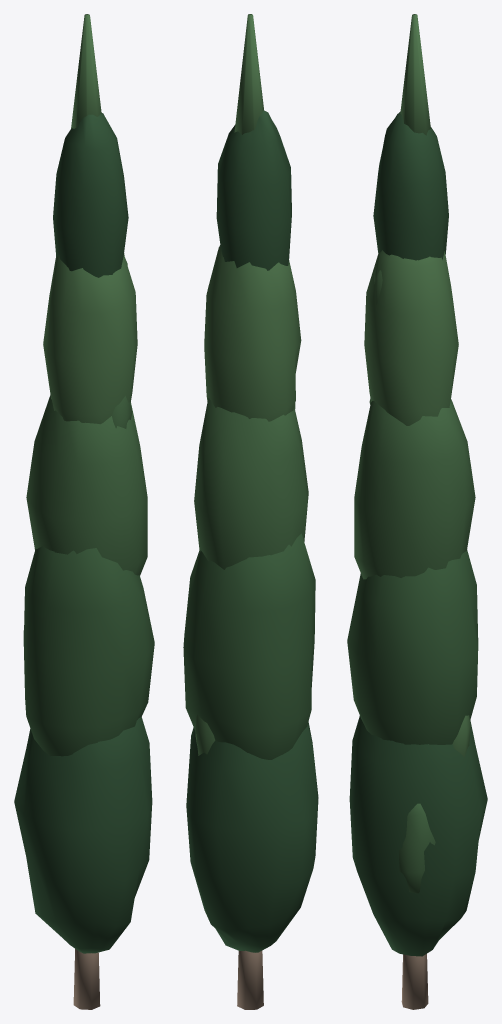
Rendered from cypress.glb.
3 renders of one model, left to right at view 1: azimuth 90°, elevation 25°; view 2: azimuth 150°, elevation 25°; view 3: azimuth 270°, elevation 25°, orthographic.
Visible parts, largest first — view 1: cypress; view 2: cypress; view 3: cypress.
Part boxes in pixels (x1,y1,x2,y2): cypress: (14, 14, 154, 1009); cypress: (183, 14, 318, 1009); cypress: (347, 14, 487, 1009).
Bounding box in the file's own units: 1.01 × 7.95 × 1.02.
